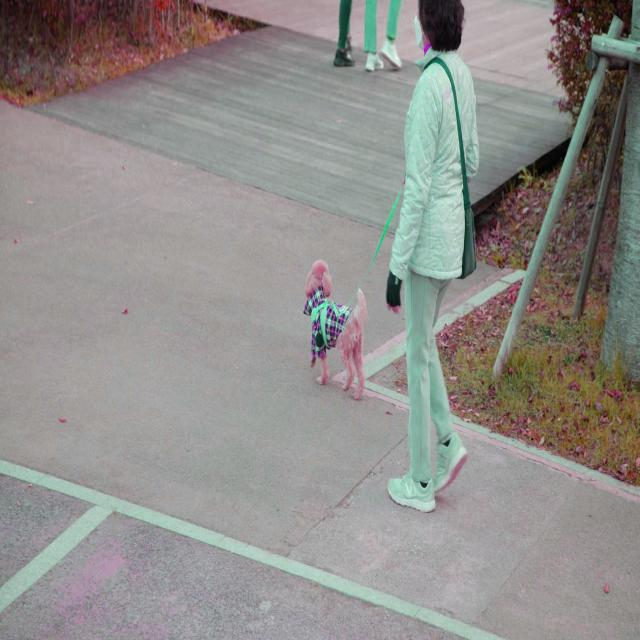Leashed_Dog: (303, 171, 440, 400)
